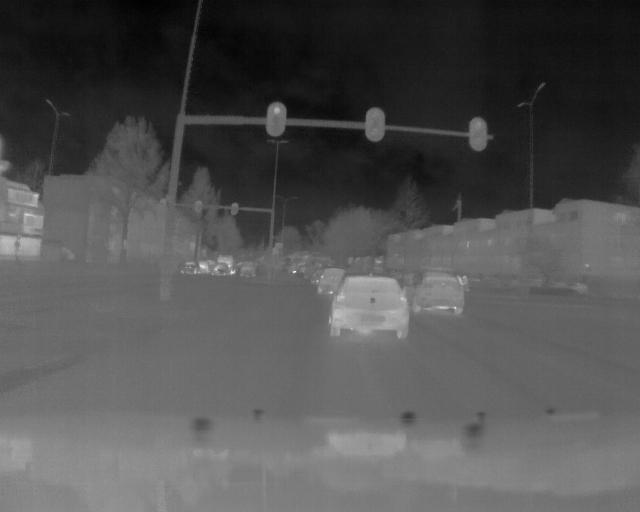car: (331, 268, 422, 341), (418, 259, 470, 324), (238, 258, 268, 284), (318, 261, 340, 295), (210, 260, 234, 280), (180, 254, 199, 276)
